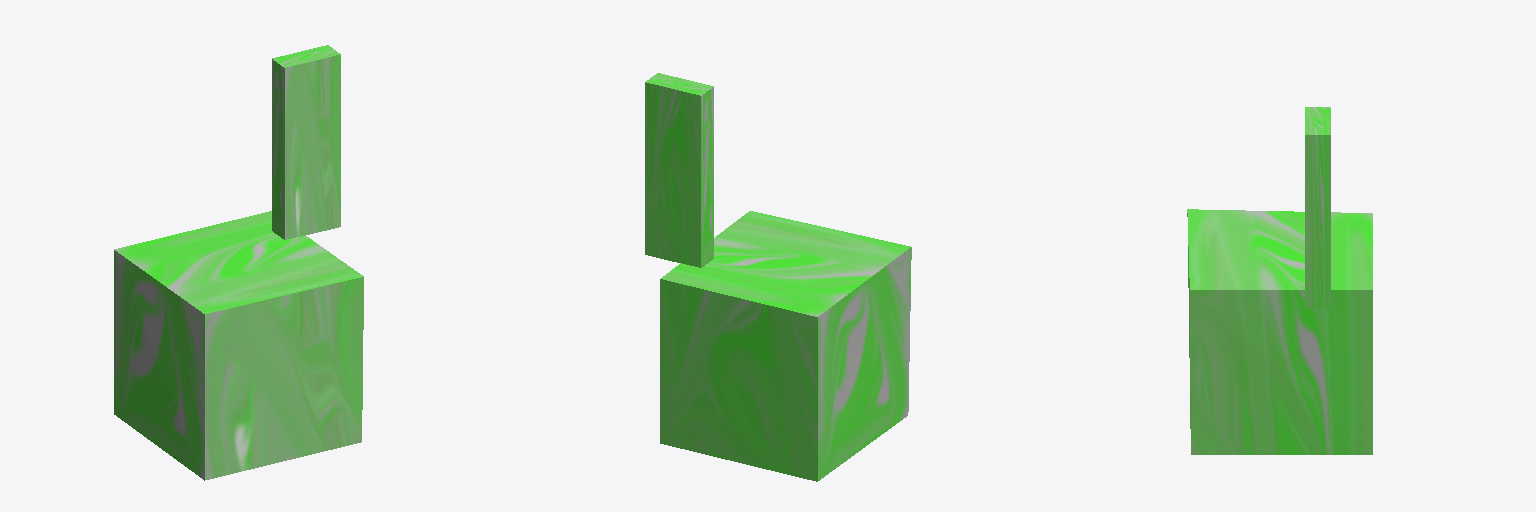
The picture shows the model from 3 angles: view 1: azimuth 30°, elevation 25°; view 2: azimuth 150°, elevation 25°; view 3: azimuth 270°, elevation 25°; orthographic projection.
Parts seen in each view (by area): view 1: Cube; view 2: Cube; view 3: Cube.
Boxes of the visible parts, box(x1,y1,x2,y2) form: Cube: box(114, 45, 363, 480); Cube: box(645, 73, 911, 481); Cube: box(1187, 107, 1372, 454).
Size of the model in its own units: 2.48 by 4.1 by 2.04.
1 materials, 1 textured.